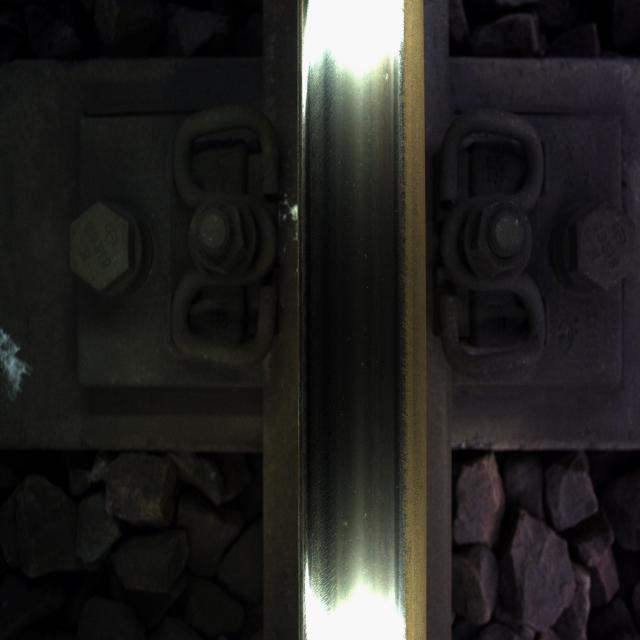break: (303, 35, 392, 583)
